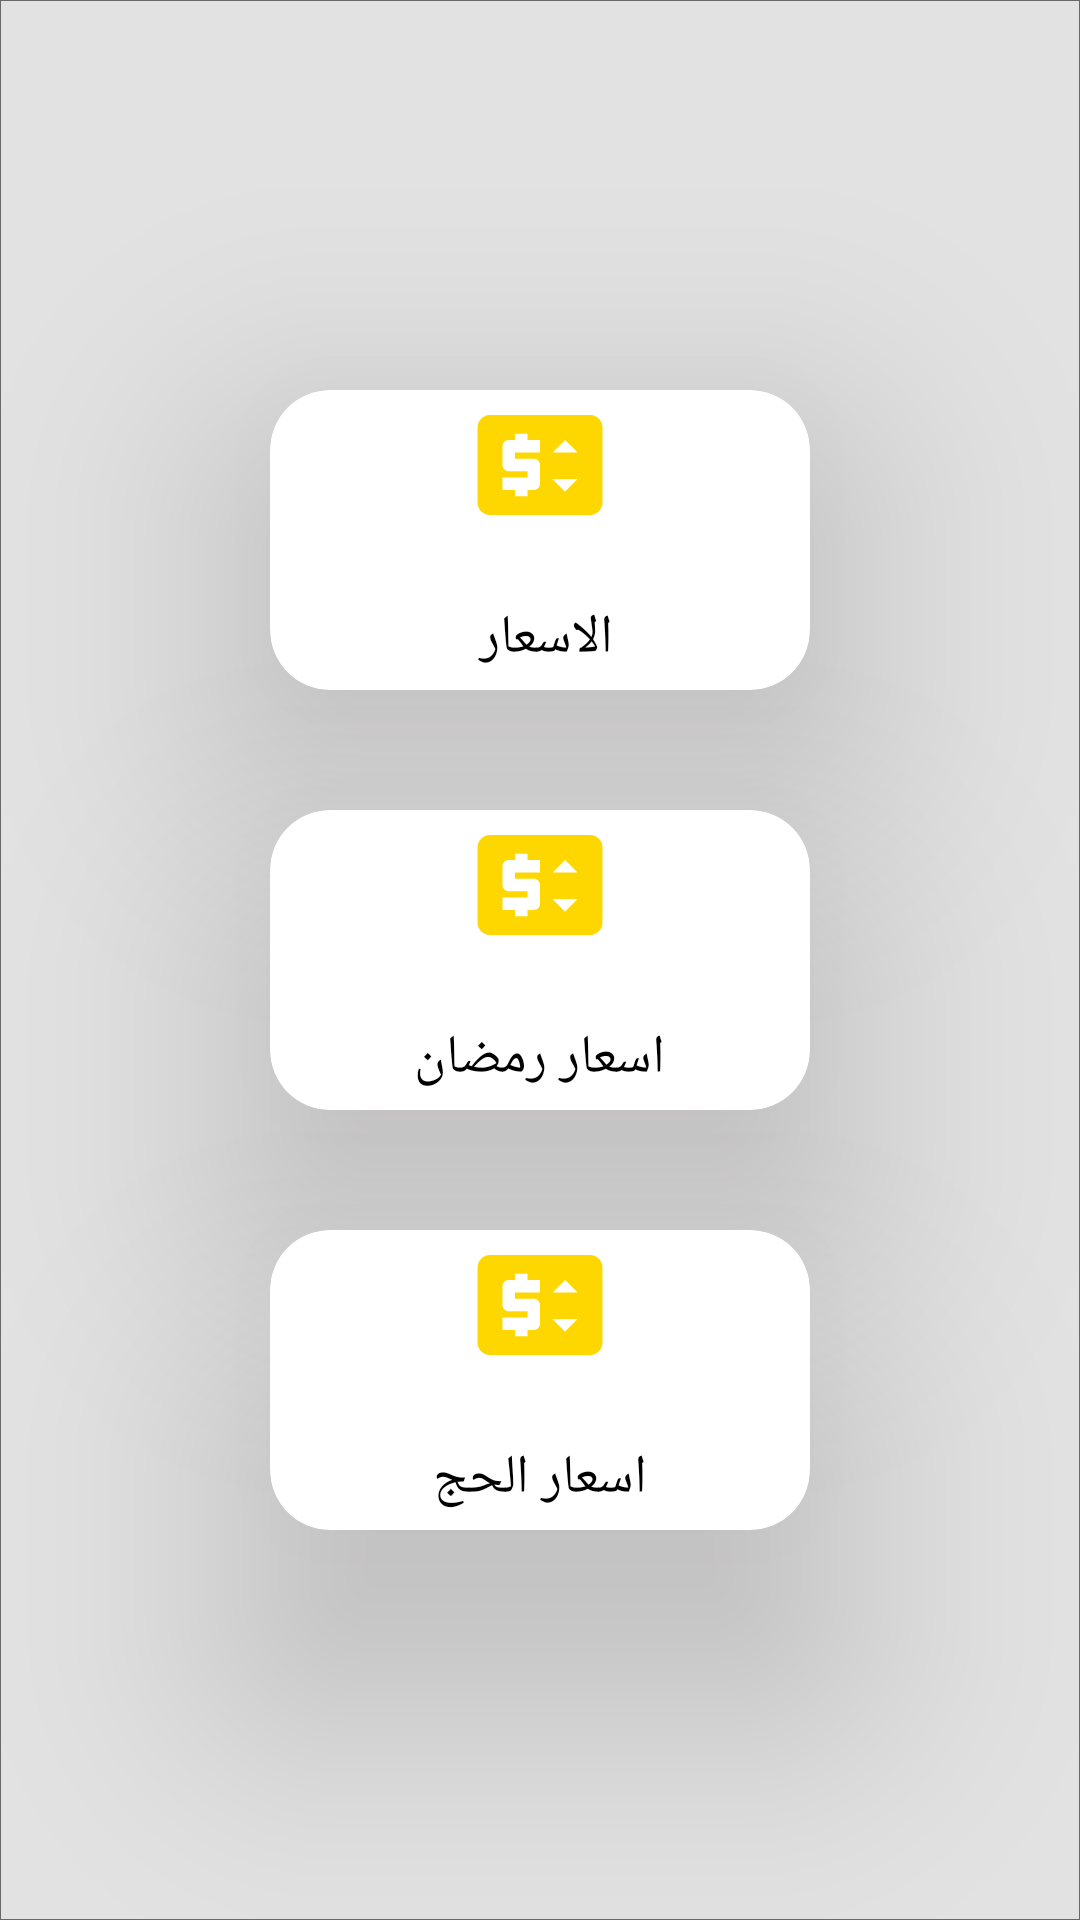

Screen size 1080×1920. Icon name, then its center in pixels as point (x, y):
price change: point (540, 465), point (540, 885), point (540, 1305)
